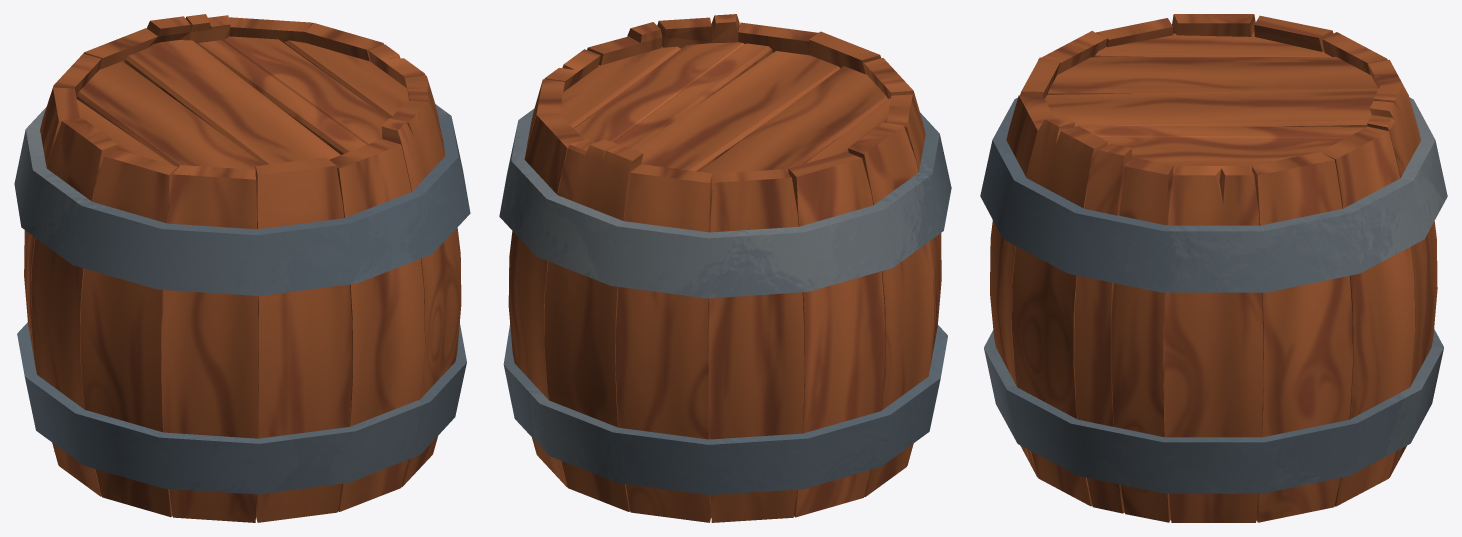
Rendered from SM_Barrel.fbx.
3 views of the same model, side by side, from view 1: azimuth 30°, elevation 25°; view 2: azimuth 150°, elevation 25°; view 3: azimuth 270°, elevation 25° (orthographic). The views are drawn at different scales.
Parts seen in each view (by area): view 1: SM_Barrel; view 2: SM_Barrel; view 3: SM_Barrel.
Boxes of the visible parts, bbox=[...] form: SM_Barrel: bbox=[14, 14, 470, 522]; SM_Barrel: bbox=[499, 14, 951, 522]; SM_Barrel: bbox=[980, 14, 1447, 522].
Size of the model in its own units: 81.6 by 70.94 by 83.68.
